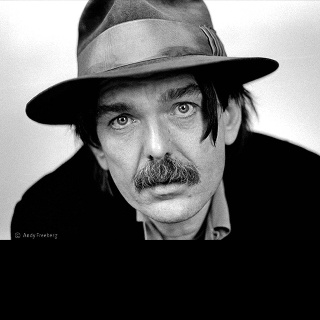without_mask: (96, 73, 226, 224)
